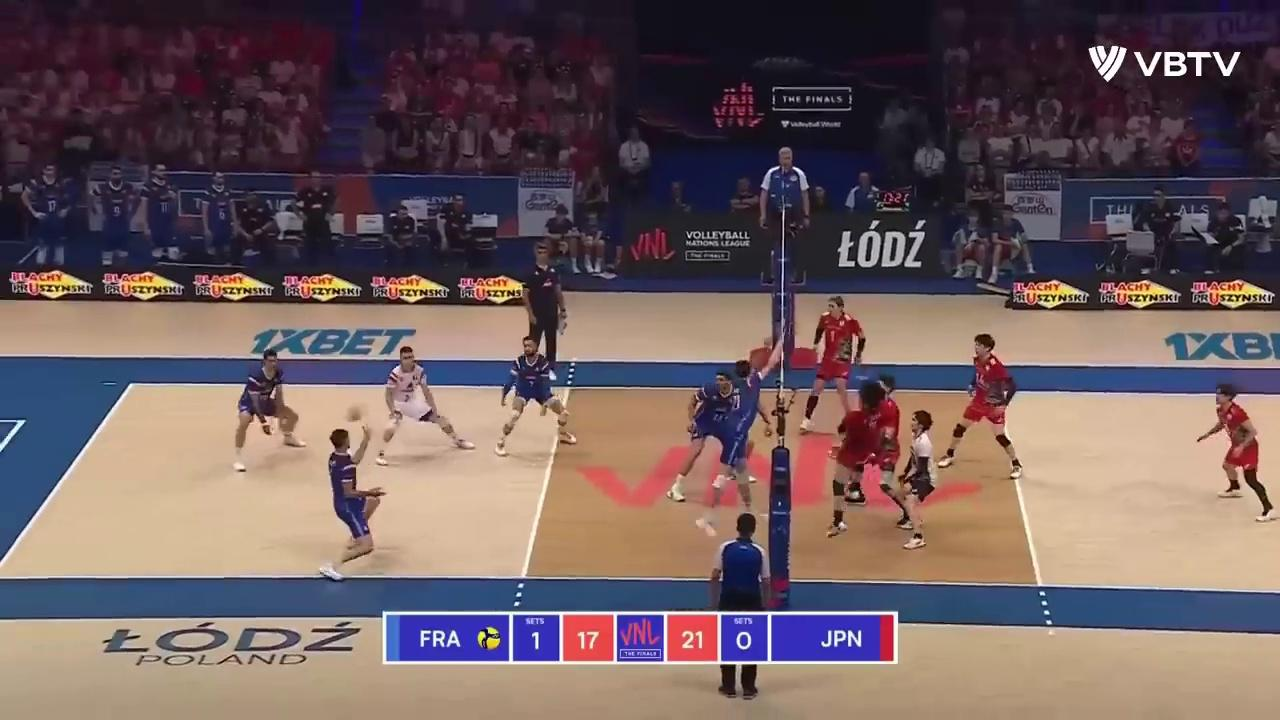ball: (346, 406, 363, 421)
